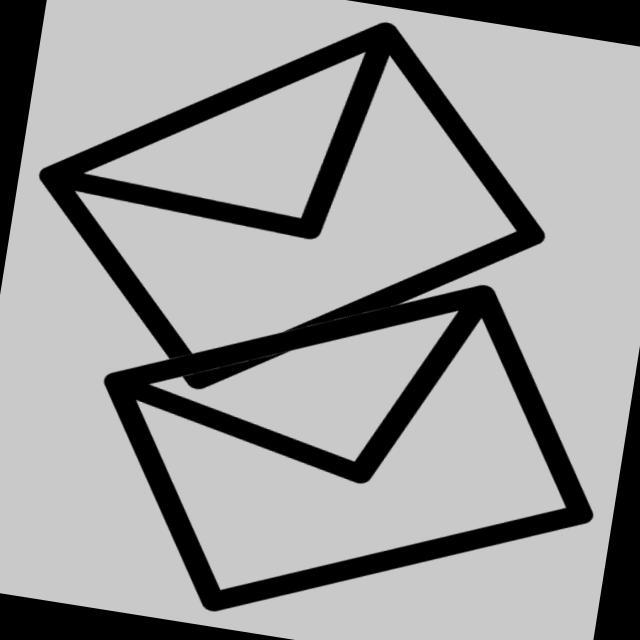letter: (2, 1, 599, 455), (52, 208, 640, 640)
